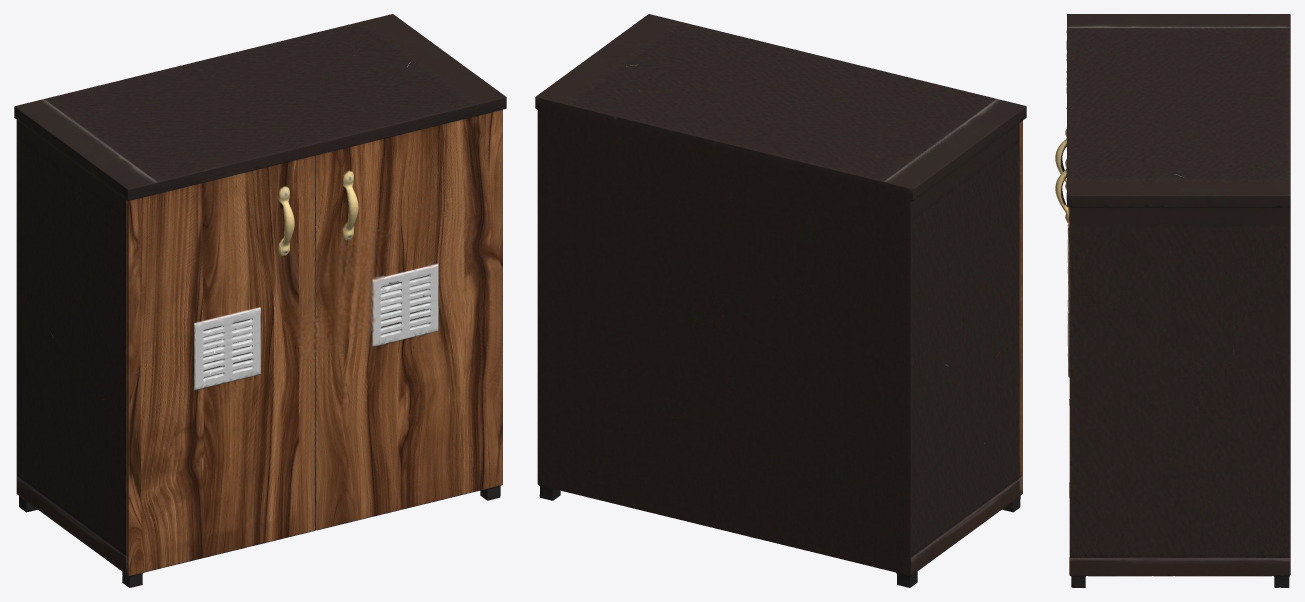
The model's file is Meshy_AI_Walnut_Locker_Cabinet_0928020811_texture.glb.
3 renders of one model, left to right at view 1: azimuth 30°, elevation 25°; view 2: azimuth 150°, elevation 25°; view 3: azimuth 270°, elevation 25°, orthographic.
Visible parts, largest first — view 1: mesh1; view 2: mesh1; view 3: mesh1.
Boxes of the visible parts, <box> form: mesh1: <box>14,14,506,587</box>; mesh1: <box>535,14,1026,587</box>; mesh1: <box>1055,14,1290,587</box>.
Bounding box in the file's own units: 0.9876 × 0.9992 × 0.5404.
Materials: 1 (1 with a texture image).
